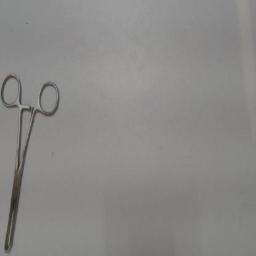Allis Tissue Forceps: (0, 66, 64, 254)
